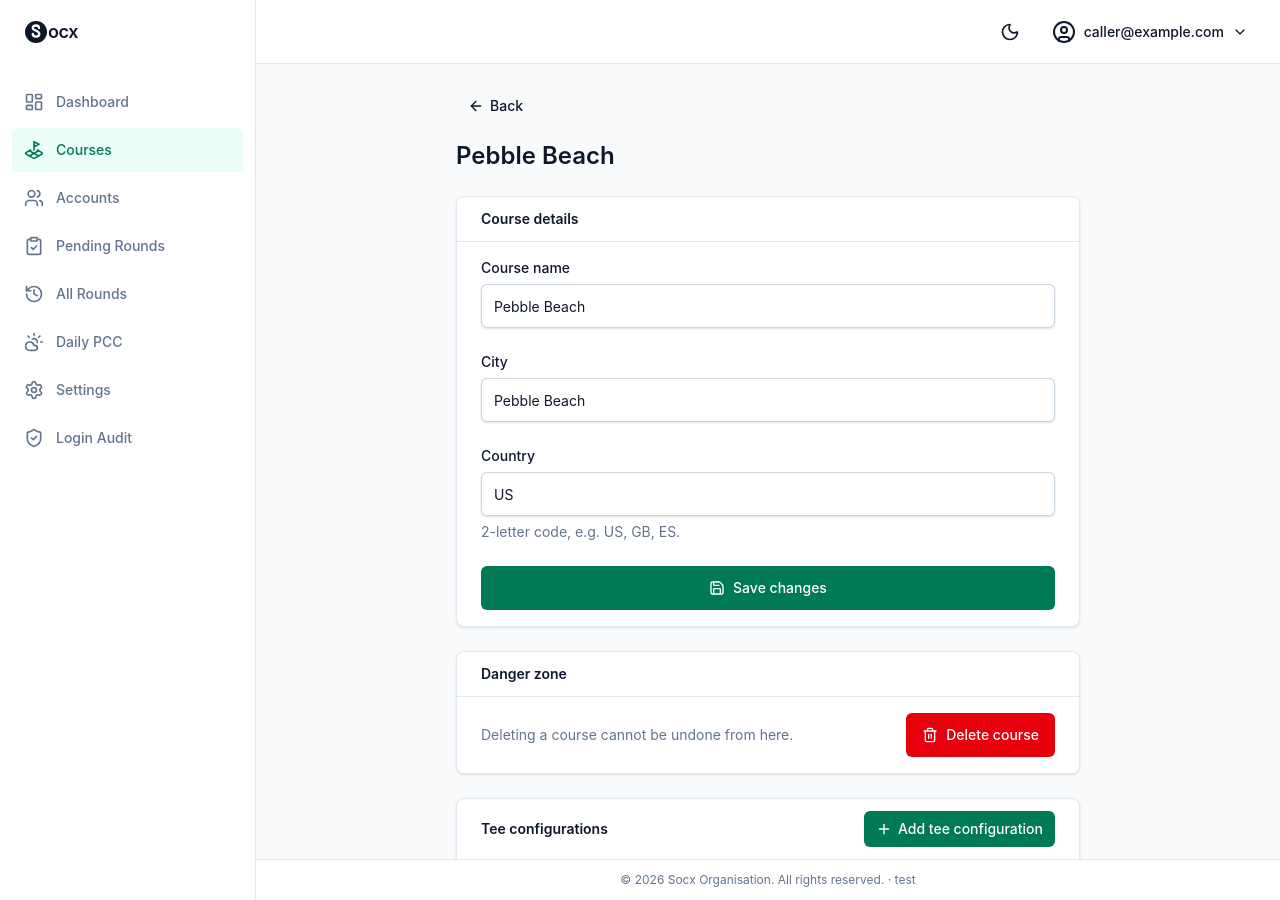
Test: CourseDetailPage › shows the server's error message via a form-level alert on save failure
Expected: the field labelled "Course name" is shown, [481, 284, 1055, 328]
What coordinates should you click on to do the following:
click the button "Save changes"
I would click on:
 (768, 588)
Its box is [481, 566, 1055, 610].
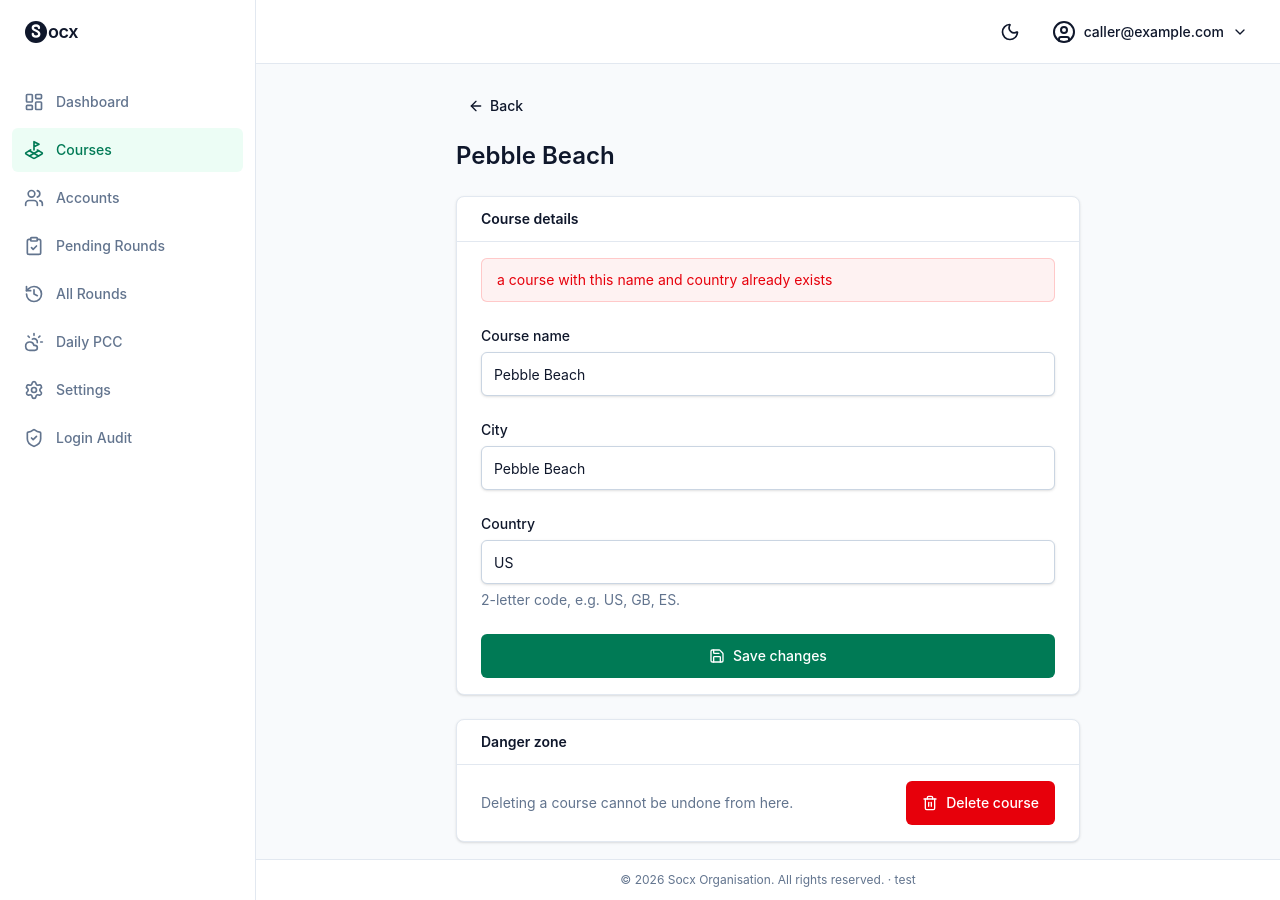
Expected: the message reads "a course with this name and country already exists", [497, 271, 832, 288]
